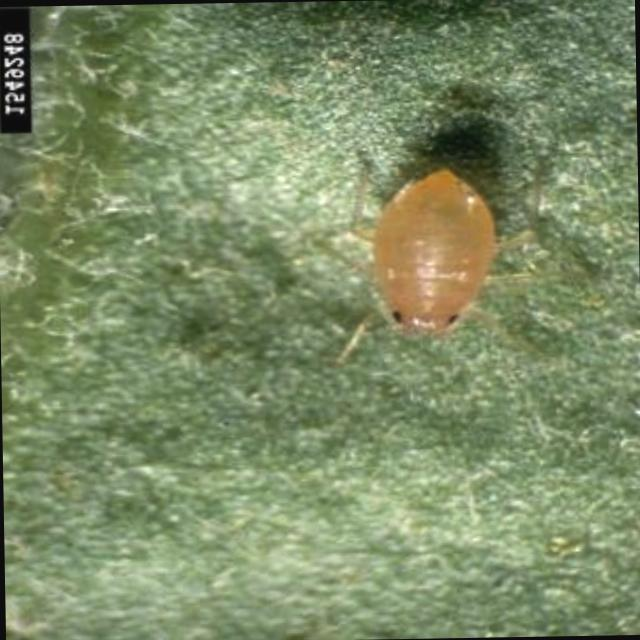Green peach aphid: (314, 141, 562, 443)
